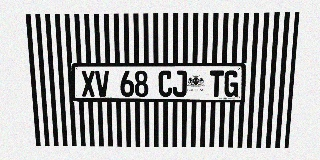6: (120, 71, 134, 97)
8: (134, 71, 148, 97)
C: (158, 70, 172, 97)
G: (224, 70, 239, 97)
J: (173, 70, 187, 97)
T: (209, 70, 224, 97)
V: (95, 71, 110, 97)
X: (81, 71, 96, 97)
